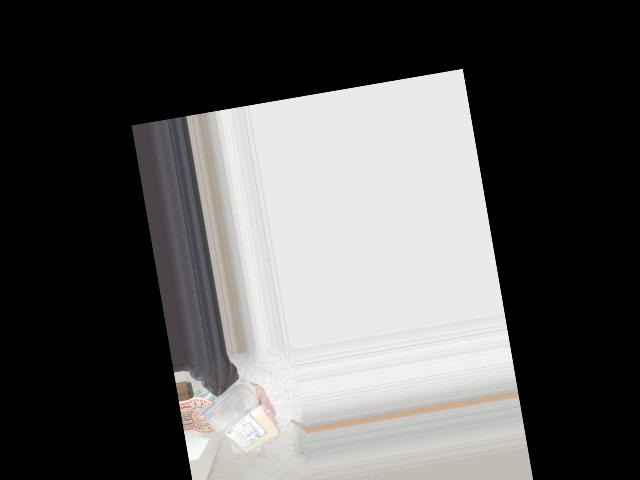cheese: (198, 384, 274, 464)
